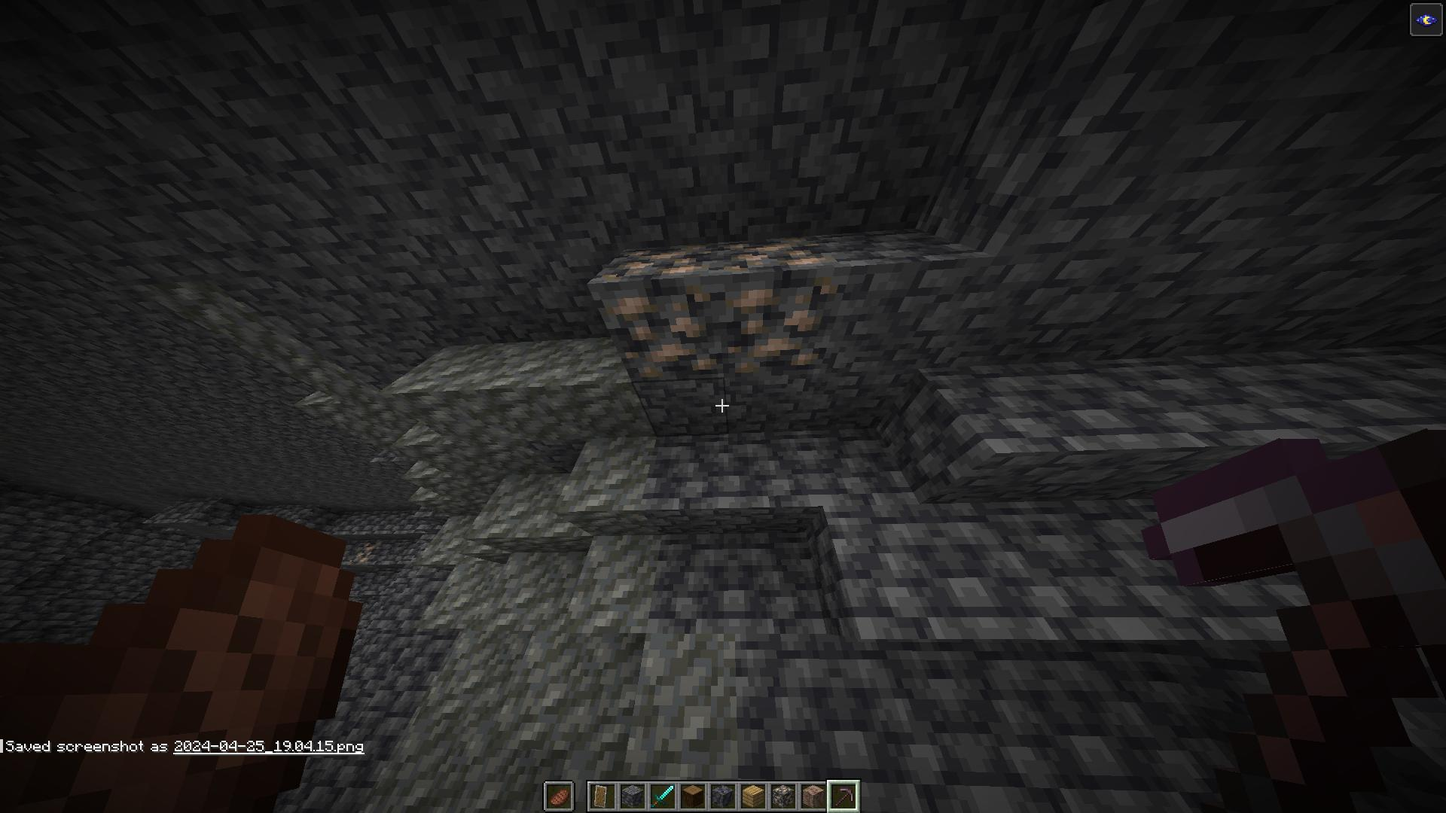iron ore: (725, 276, 837, 368), (609, 280, 720, 371), (715, 234, 814, 271), (619, 241, 708, 276)
